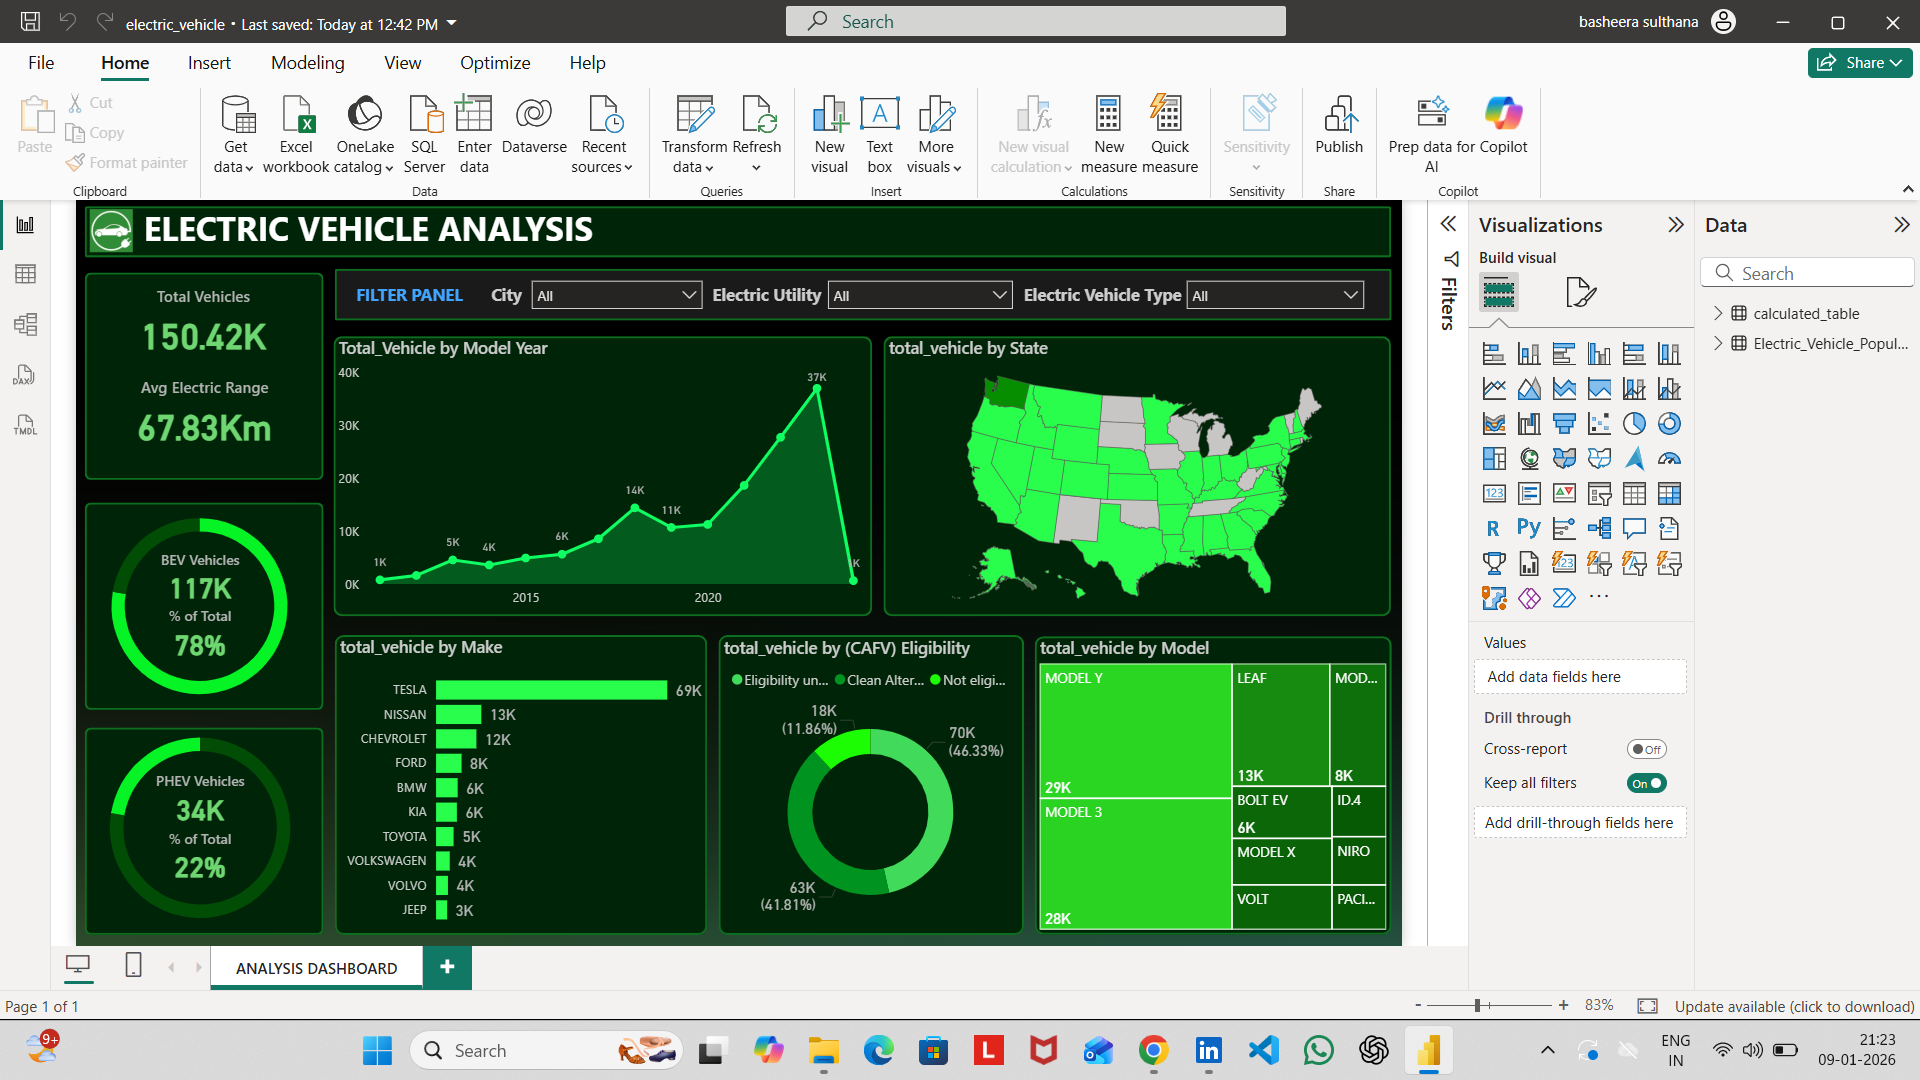

What the dashboard file says about the page in this screenshot:
{"tool":"powerbi","page":{"name":"ANALYSIS DASHBOARD","canvas":[1280,720],"ordinal":0},"visuals":[{"type":"shape","box":[8.2,5.5,1261.1,49.4],"z":0},{"type":"textbox","box":[396.2,75,107,31.4],"z":0,"group":"g1"},{"type":"textbox","box":[60,0.6,457.1,59.4],"z":1000},{"type":"textbox","box":[910.1,75,194.2,31.4],"z":1000,"group":"g1"},{"type":"shape","box":[8.2,70,230.5,200.3],"z":2000},{"type":"textbox","box":[609.7,75,131.5,31.4],"z":2000,"group":"g1"},{"type":"card","title":"Total Vehicles","fields":{"Values":["calculated_table.total_vehicle"]},"box":[17.8,82.3,209.9,74.1],"z":3000},{"type":"card","title":"Avg Electric Range","fields":{"Values":["calculated_table.avg_range"]},"box":[19.2,170.2,209.9,74.1],"z":4000},{"type":"shape","box":[8.2,509.1,230.5,200.3],"z":5000},{"type":"shape","box":[8.2,292.3,230.5,200.3],"z":6000},{"type":"donutChart","fields":{"Category":["Electric_Vehicle_Population_Data.Electric Vehicle Type"],"Y":["calculated_table.total_vehicle"]},"box":[0,281.3,238.8,222.3],"z":7000},{"type":"card","title":"BEV Vehicles","fields":{"Values":["calculated_table.BEV_Vehicles"]},"box":[45.3,337.6,148.2,54.9],"z":8000},{"type":"donutChart","fields":{"Category":["Electric_Vehicle_Population_Data.Electric Vehicle Type"],"Y":["calculated_table.total_vehicle"]},"box":[5.5,492.6,227.8,227.8],"z":9000},{"type":"card","title":"PHEV Vehicles","fields":{"Values":["calculated_table.PHEV_Vehicles"]},"box":[45.3,551.6,148.2,54.9],"z":10000},{"type":"card","title":"% of Total","fields":{"Values":["calculated_table.% of PHEV"]},"box":[45.3,606.5,148.2,54.9],"z":11000},{"type":"card","title":"% of Total","fields":{"Values":["calculated_table.% of BEV"]},"box":[45.3,392.5,148.2,54.9],"z":12000},{"type":"shape","box":[248.5,131.5,520,270.2],"z":13000},{"type":"areaChart","title":"Total_Vehicle by Model Year","fields":{"Category":["Electric_Vehicle_Population_Data.Model Year"],"Y":["calculated_table.total_vehicle"]},"box":[248.5,131.5,520,270.2],"z":14000},{"type":"shape","box":[779.4,131.5,489.8,270.2],"z":15000},{"type":"shapeMap","fields":{"Category":["Electric_Vehicle_Population_Data.State"],"Value":["calculated_table.total_vehicle"]},"box":[779.4,131.5,489.8,270.2],"z":16000},{"type":"shape","box":[249.7,419.9,359.5,289.5],"z":17000},{"type":"barChart","fields":{"Category":["Electric_Vehicle_Population_Data.Make"],"Y":["calculated_table.total_vehicle"]},"box":[249.7,419.9,359.5,289.5],"z":18000},{"type":"shape","box":[620.2,419.9,295,289.5],"z":19000},{"type":"donutChart","title":"total_vehicle by (CAFV) Eligibility","fields":{"Category":["Electric_Vehicle_Population_Data.Clean Alternative Fuel Vehicle (CAFV) Eligibility"],"Y":["calculated_table.total_vehicle"]},"box":[620.2,421.3,293.7,288.2],"z":20000},{"type":"shape","box":[924.9,421.3,344.4,288.2],"z":21000},{"type":"treemap","fields":{"Group":["Electric_Vehicle_Population_Data.Model"],"Values":["calculated_table.total_vehicle"]},"box":[924.9,421.3,344.4,288.2],"z":22000},{"type":"shape","box":[250,66.2,1020,50],"z":23000},{"type":"slicer","fields":{"Values":["Electric_Vehicle_Population_Data.City"]},"box":[430,67.5,185,55],"z":24000},{"type":"textbox","box":[265,75,131.2,31.2],"z":25000},{"type":"slicer","fields":{"Values":["Electric_Vehicle_Population_Data.Electric Utility"]},"box":[715,67.5,198.8,55],"z":26000},{"type":"slicer","fields":{"Values":["Electric_Vehicle_Population_Data.Electric Vehicle Type"]},"box":[1061.2,67.5,191.2,55],"z":27000},{"type":"image","box":[8.2,2.9,51.8,54.1],"z":28000},{"type":"group","id":"g1","title":"Group 1","box":[396.2,75,707.5,31.2],"z":29000}]}

Visuals, with their boxes on the page's 1280x720 design canvas (x1, y1, x2, y2). These are canvas units, not pixel positions in the 1920x1080 screenshot, which may show the page scaled, cropped or inside an application window:
shape: Rect(8, 6, 1269, 55)
textbox: Rect(396, 75, 503, 106)
textbox: Rect(60, 1, 517, 60)
textbox: Rect(910, 75, 1104, 106)
shape: Rect(8, 70, 239, 270)
textbox: Rect(610, 75, 741, 106)
"Total Vehicles" card: Rect(18, 82, 228, 156)
"Avg Electric Range" card: Rect(19, 170, 229, 244)
shape: Rect(8, 509, 239, 709)
shape: Rect(8, 292, 239, 493)
donutChart - Electric_Vehicle_Population_Data.Electric Vehicle Type x calculated_table.total_vehicle: Rect(0, 281, 239, 504)
"BEV Vehicles" card: Rect(45, 338, 194, 392)
donutChart - Electric_Vehicle_Population_Data.Electric Vehicle Type x calculated_table.total_vehicle: Rect(6, 493, 233, 720)
"PHEV Vehicles" card: Rect(45, 552, 194, 606)
"% of Total" card: Rect(45, 606, 194, 661)
"% of Total" card: Rect(45, 392, 194, 447)
shape: Rect(248, 132, 768, 402)
"Total_Vehicle by Model Year" areaChart: Rect(248, 132, 768, 402)
shape: Rect(779, 132, 1269, 402)
shapeMap - Electric_Vehicle_Population_Data.State x calculated_table.total_vehicle: Rect(779, 132, 1269, 402)
shape: Rect(250, 420, 609, 709)
barChart - Electric_Vehicle_Population_Data.Make x calculated_table.total_vehicle: Rect(250, 420, 609, 709)
shape: Rect(620, 420, 915, 709)
"total_vehicle by (CAFV) Eligibility" donutChart: Rect(620, 421, 914, 710)
shape: Rect(925, 421, 1269, 710)
treemap - Electric_Vehicle_Population_Data.Model x calculated_table.total_vehicle: Rect(925, 421, 1269, 710)
shape: Rect(250, 66, 1270, 116)
slicer - Electric_Vehicle_Population_Data.City: Rect(430, 68, 615, 122)
textbox: Rect(265, 75, 396, 106)
slicer - Electric_Vehicle_Population_Data.Electric Utility: Rect(715, 68, 914, 122)
slicer - Electric_Vehicle_Population_Data.Electric Vehicle Type: Rect(1061, 68, 1252, 122)
image: Rect(8, 3, 60, 57)
"Group 1" group: Rect(396, 75, 1104, 106)
